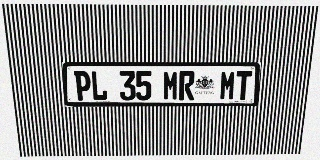3: (119, 71, 136, 100)
5: (136, 71, 152, 100)
L: (90, 71, 108, 101)
M: (219, 71, 236, 100), (163, 71, 179, 100)
P: (74, 71, 91, 101)
R: (179, 71, 195, 100)
T: (235, 71, 252, 100)
